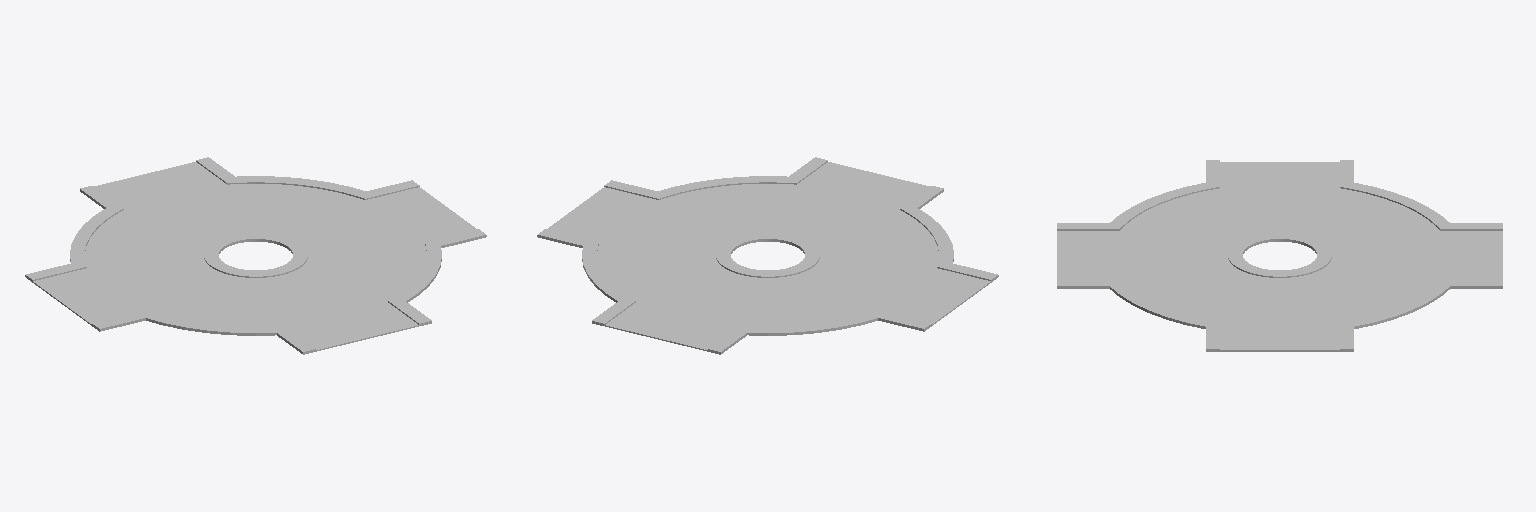
File: road_roundabout.obj
The picture shows the model from 3 angles: view 1: azimuth 30°, elevation 25°; view 2: azimuth 150°, elevation 25°; view 3: azimuth 270°, elevation 25°; orthographic projection.
Visible parts, largest first — view 1: road_roundabout; view 2: road_roundabout; view 3: road_roundabout.
Boxes of the visible parts, x1,y1,x2,y2 form: road_roundabout: [25, 157, 486, 354]; road_roundabout: [537, 157, 998, 354]; road_roundabout: [1057, 160, 1502, 351].
Bounding box in the file's own units: 3 × 0.02 × 3.